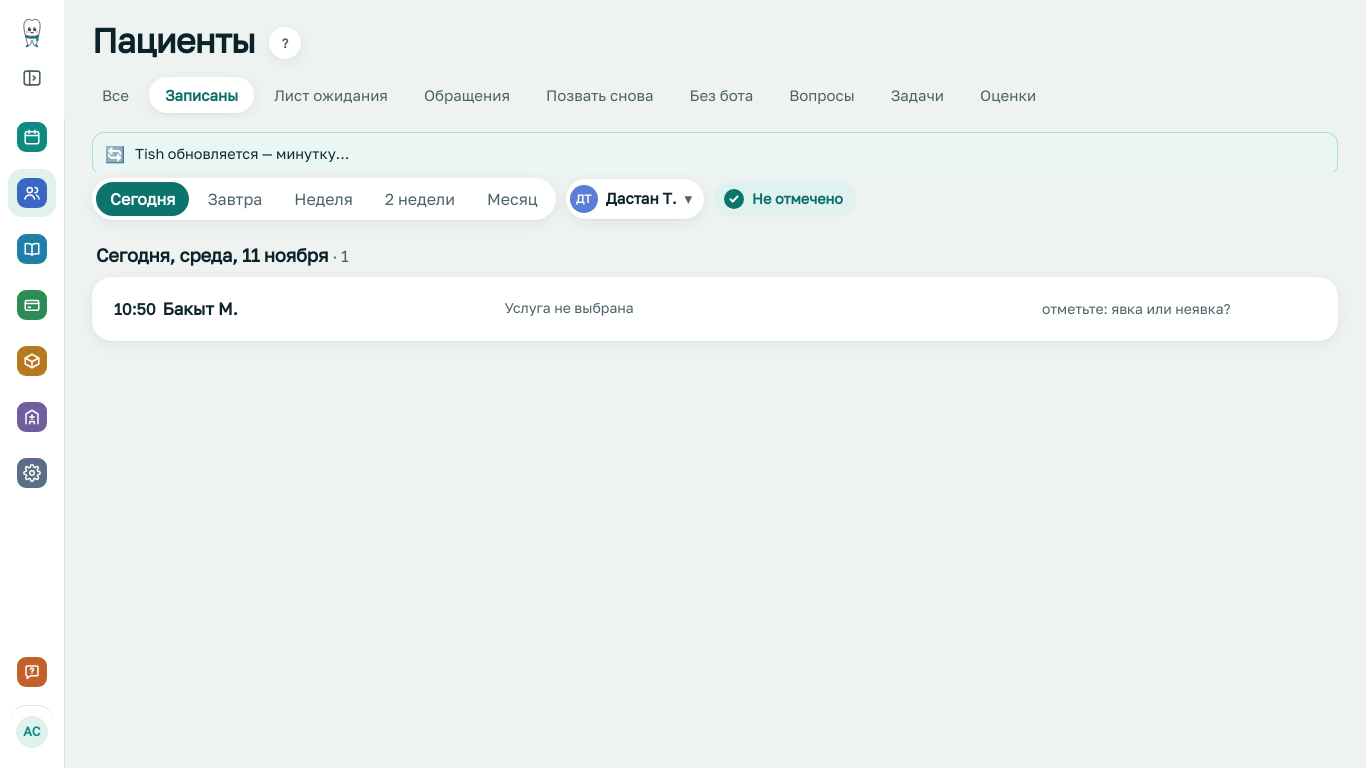
it: кнопка «Отметить (N)» (?screen=booked&day=today&unmarked=1&doctor=2): сегодня только прошедшие без отметки, без WhatsApp
Expected: the button "Бакыт М." is shown, [162,296,238,321]
Expected: the number of list items is 1, [114,299,1231,319]
// Сняли галочку — снова будущие
Click the checkbox labelled "Не отмечено" at coordinates (734, 199), box [724,189,744,209]
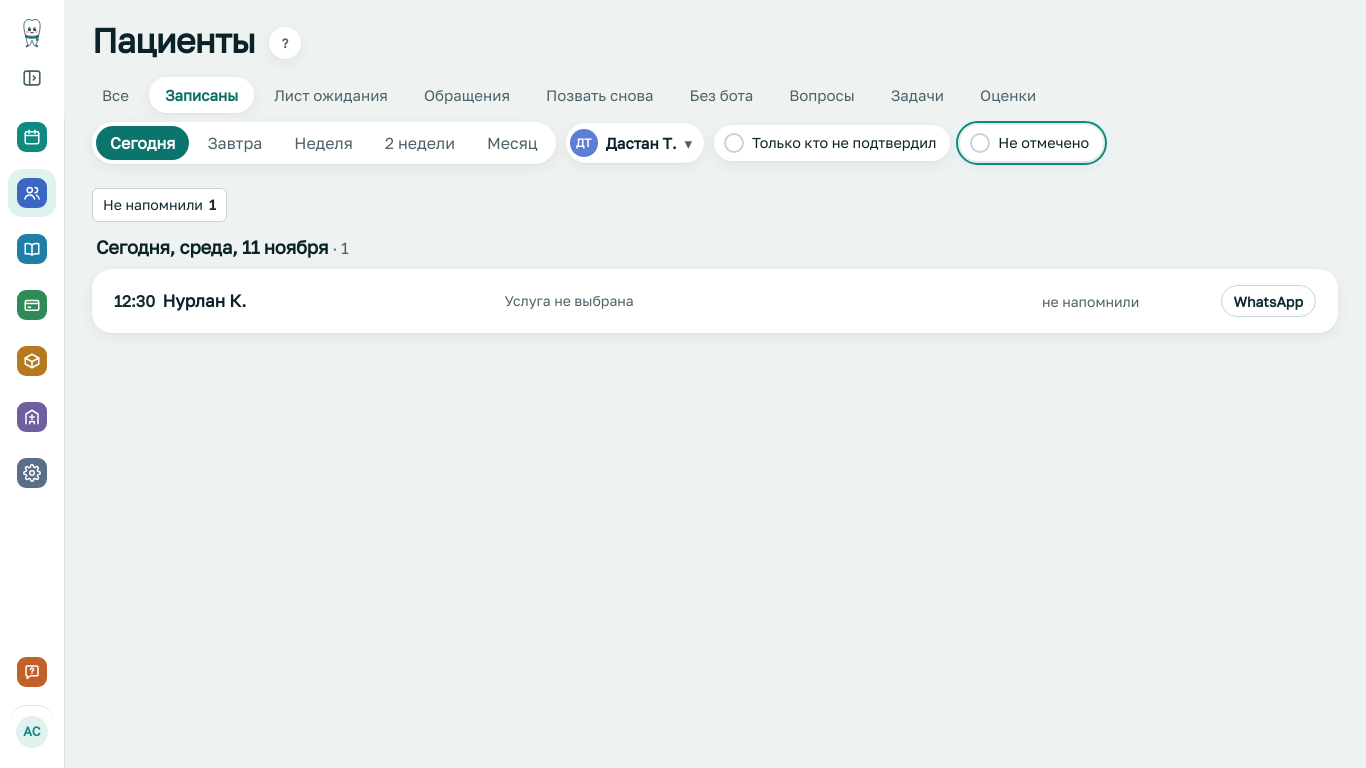
Expected: the button "Нурлан К." is shown, [162,288,246,314]
Expected: the button "Бакыт М." is gone
